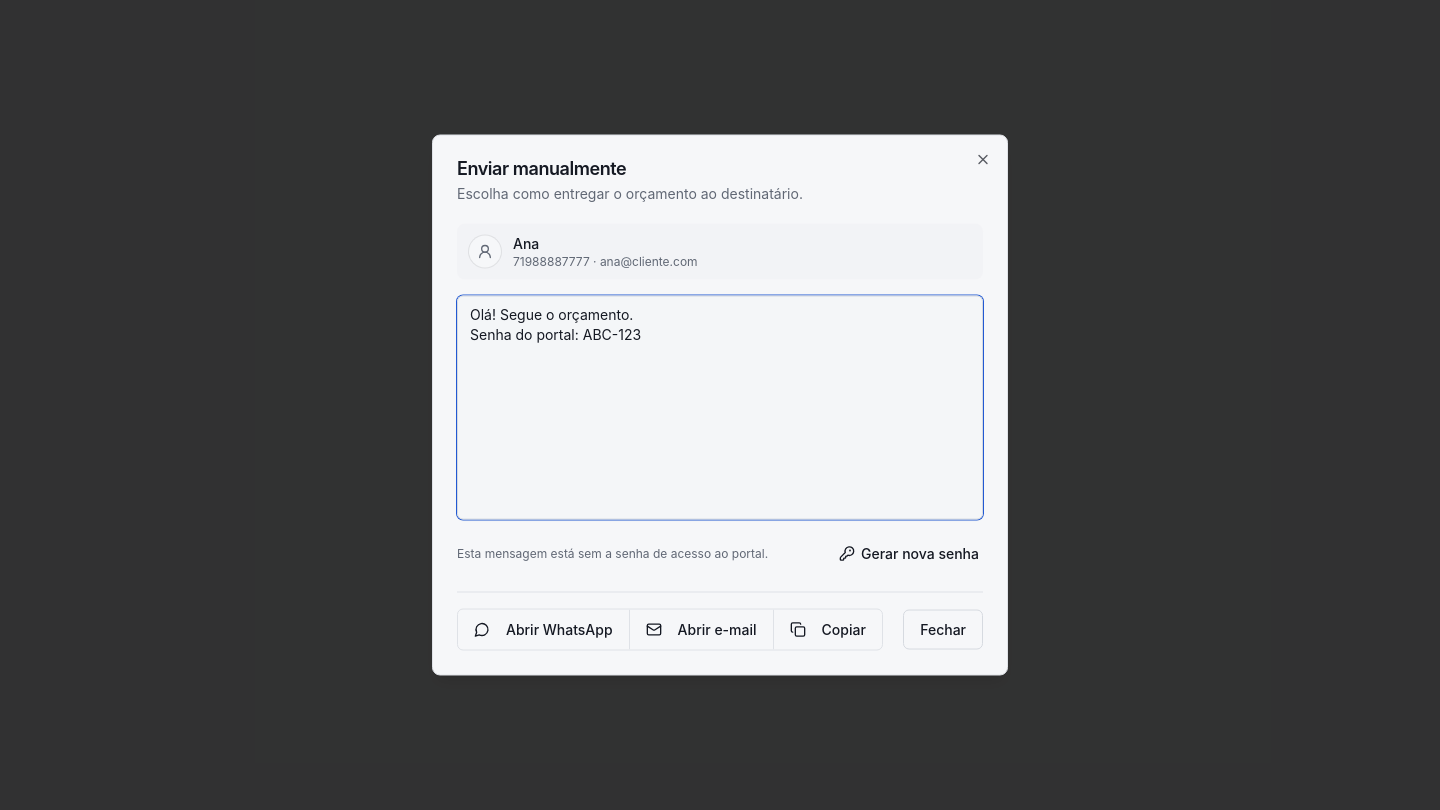
Test: EnvioManualOrcamentoDialog › mostra erro quando gerar nova senha falha
Click the button "Gerar nova senha" at x=909, y=554, box x1=827 y1=536 x2=991 y2=572
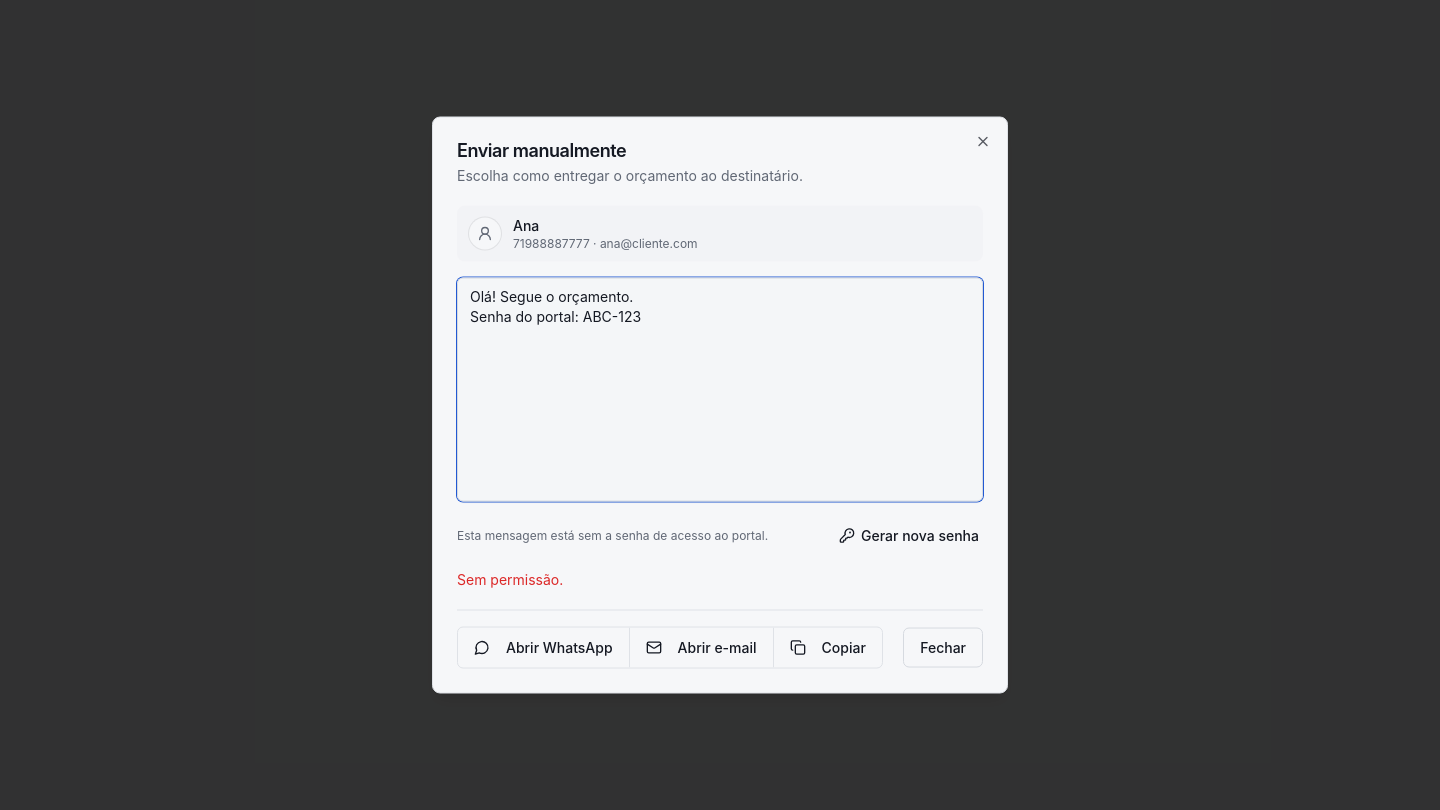
Check: the message reads "Sem permissão.", box x1=457 y1=570 x2=563 y2=588
